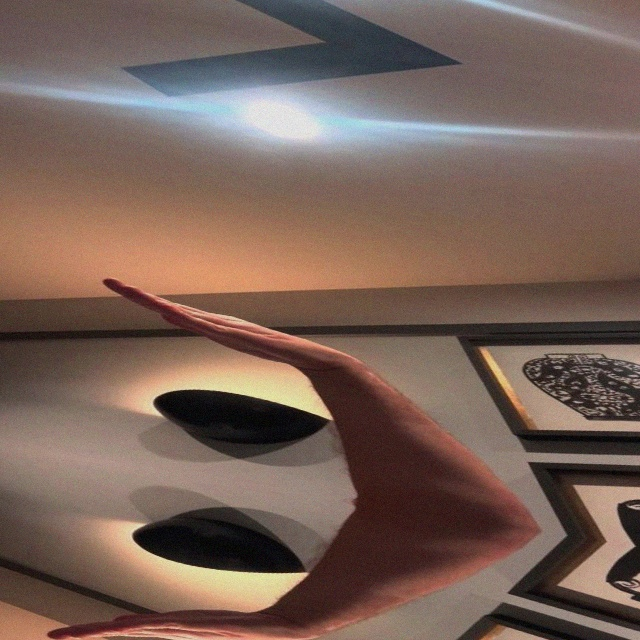Paper: (93, 276, 362, 375)
